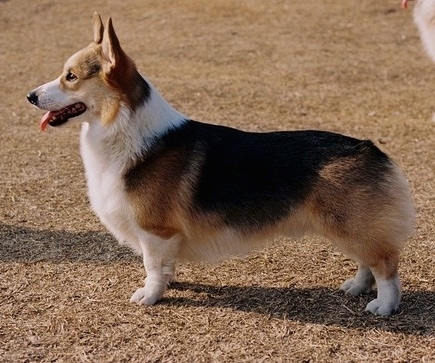dog: (29, 13, 412, 314)
